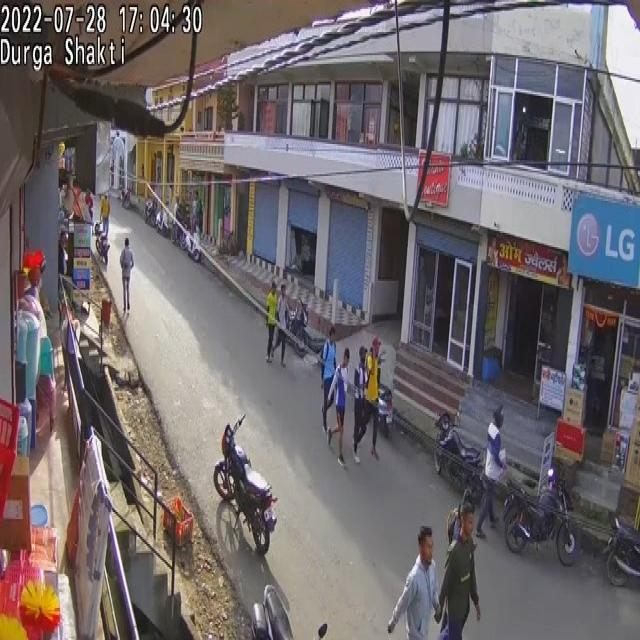non-fight: (433, 504, 481, 640), (389, 554, 441, 640), (478, 404, 506, 537), (327, 348, 351, 466), (362, 337, 384, 459), (352, 346, 370, 461), (314, 314, 332, 426), (266, 279, 280, 363), (119, 238, 134, 315), (58, 230, 69, 296), (99, 192, 110, 234), (191, 193, 201, 235)
